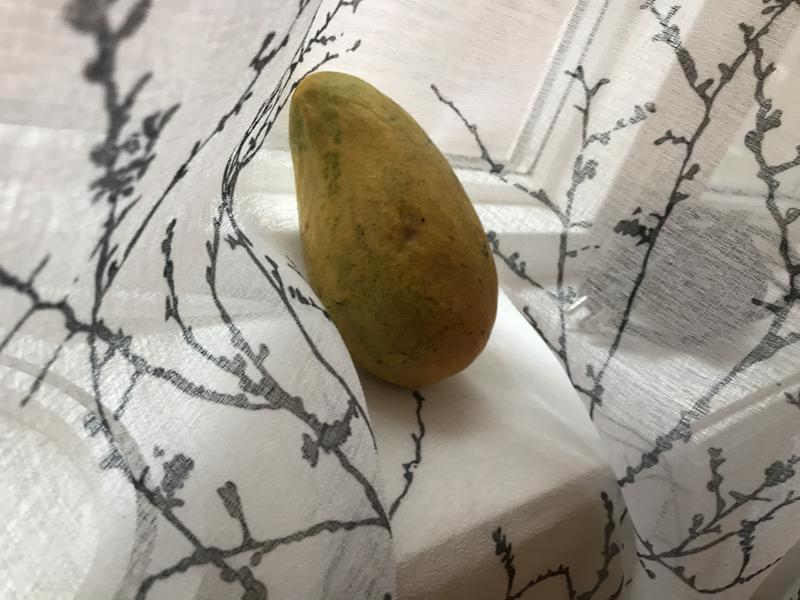mango: (276, 59, 508, 397)
